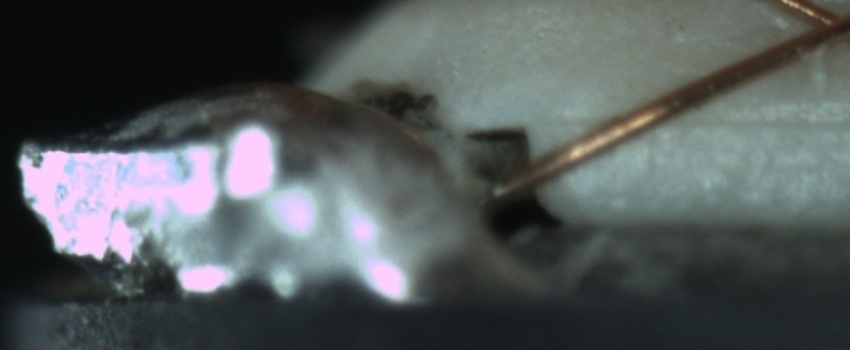CL: (773, 1, 850, 59)
DL: (602, 85, 849, 156)
